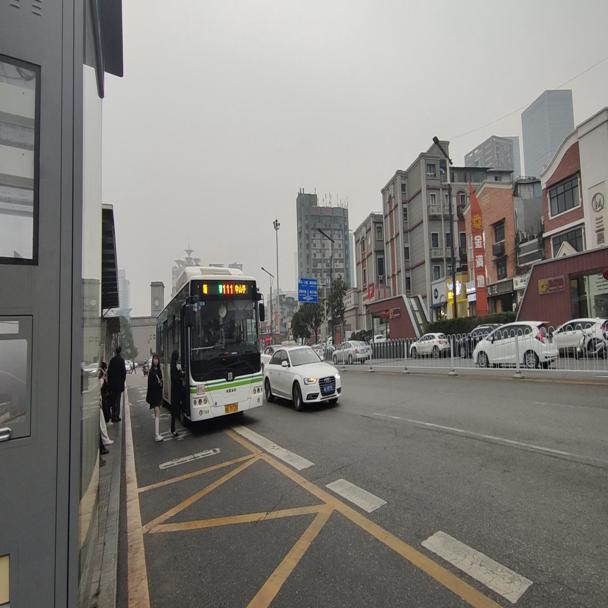bus: (154, 261, 266, 427)
screen: (221, 279, 234, 293)
